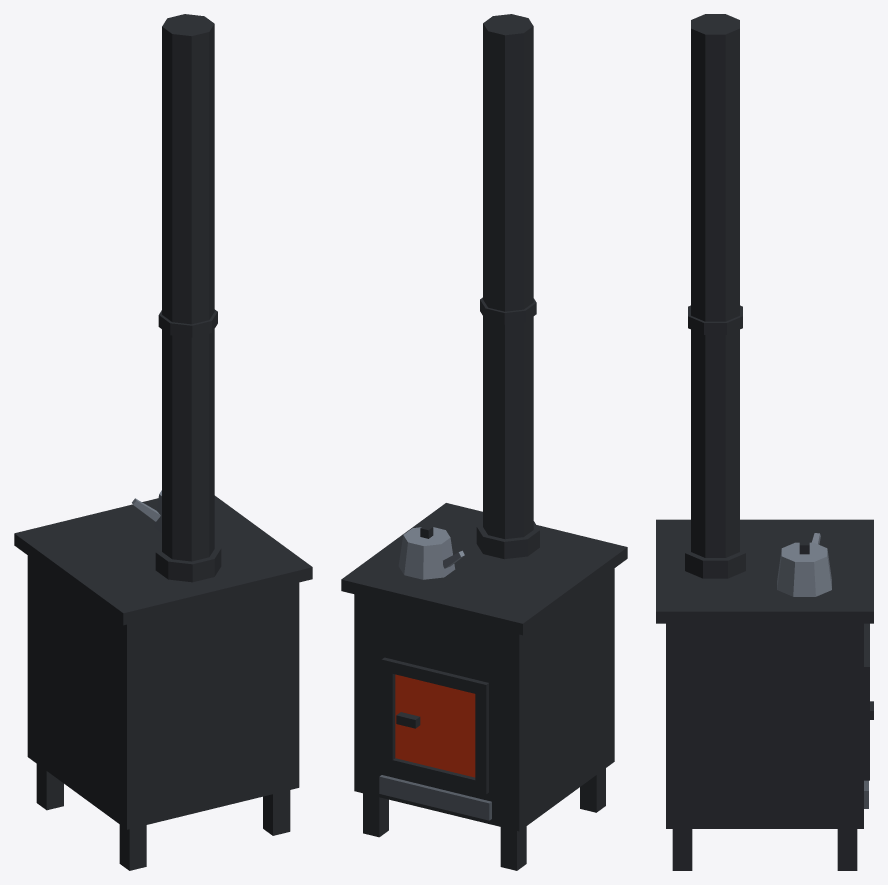
Rendered from wood_stove.glb.
3 renders of one model, left to right at view 1: azimuth 30°, elevation 25°; view 2: azimuth 150°, elevation 25°; view 3: azimuth 270°, elevation 25°, orthographic. The views are drawn at different scales.
Visible parts, largest first — view 1: Body, Pipe; view 2: Body, Pipe, Door; view 3: Body, Pipe.
Part boxes in pixels (x1,y1,x2,y2): Body: (14,490,312,870); Pipe: (155,14,221,582); Body: (341,503,627,870); Pipe: (476,14,539,559); Door: (395,674,475,777); Body: (656,519,873,870); Pipe: (685,14,745,578).
Size of the model in its own units: 0.66 by 2.7 by 0.66.
